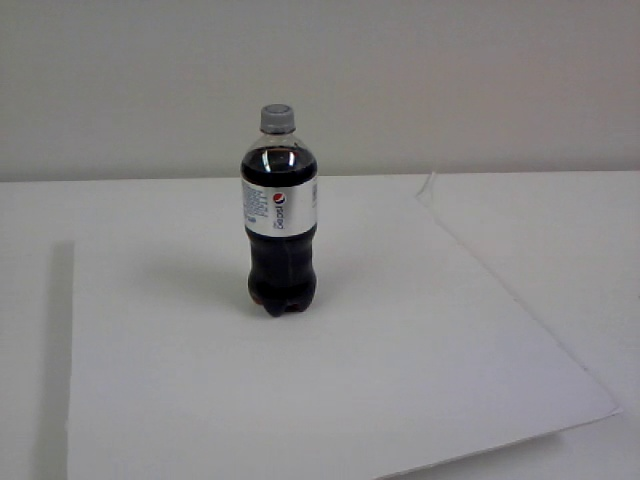botolplastik: (241, 106, 317, 317)
